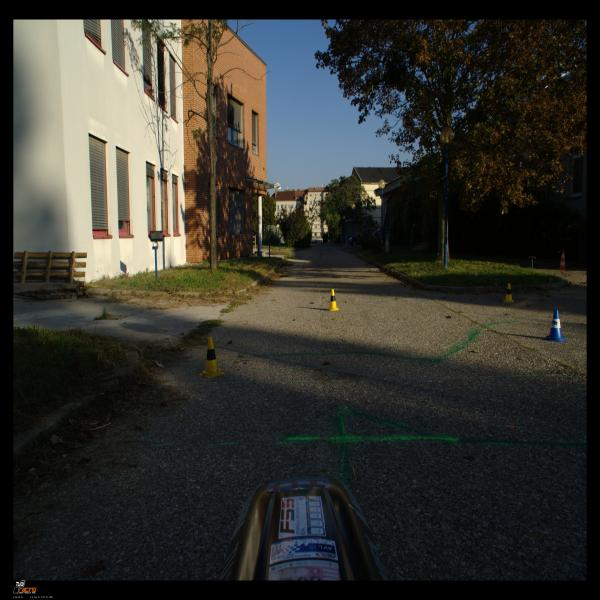blue_cone: (545, 309, 567, 342)
large_orange_cone: (558, 250, 566, 270)
yellow_cone: (200, 336, 224, 378), (327, 289, 340, 311), (503, 284, 514, 302)
